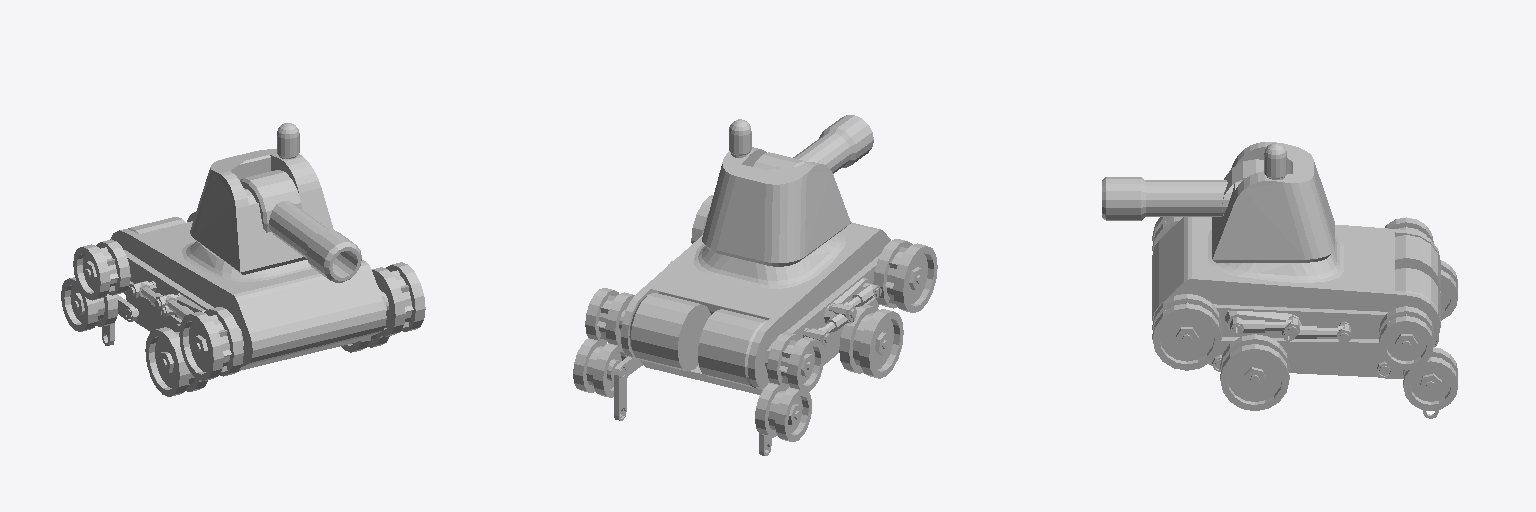
File: turret.obj
The picture shows the model from 3 angles: view 1: azimuth 30°, elevation 25°; view 2: azimuth 150°, elevation 25°; view 3: azimuth 270°, elevation 25°; orthographic projection.
Visible parts, largest first — view 1: Chassis, Turret, Barrel, RightFrontDriver, RightRearDriver, LeftFrontDriver, RightFrontIdler, RightRearIdler, RightDriveBelt, RightRearSuspensionArm; view 2: Chassis, Turret, LeftMotor, RightFrontDriver, RightFrontIdler, RightMotor, Barrel, RightRearIdler, RightRearDriver, LeftRearIdler, LeftRearDriver, RightDriveBelt (+3 smaller); view 3: Chassis, Turret, Barrel, LeftFrontIdler, LeftFrontDriver, LeftRearDriver, LeftRearIdler, LeftDriveBelt, RightMotor, LeftMotor, RightRearIdler, LeftFrontSuspensionSpring (+2 smaller).
Boxes of the visible parts, x1,y1,x2,y2 form: Chassis: [110, 221, 386, 370]; Turret: [190, 149, 333, 274]; Barrel: [240, 170, 361, 282]; RightFrontDriver: [179, 307, 243, 380]; RightRearDriver: [73, 239, 130, 300]; LeftFrontDriver: [372, 262, 425, 336]; RightFrontIdler: [145, 324, 207, 396]; RightRearIdler: [61, 277, 117, 331]; RightDriveBelt: [124, 250, 243, 348]; RightRearSuspensionArm: [102, 294, 137, 345]; Chassis: [621, 222, 890, 394]; Turret: [702, 147, 850, 266]; LeftMotor: [629, 293, 710, 371]; RightFrontDriver: [873, 239, 937, 312]; RightFrontIdler: [839, 304, 903, 378]; RightMotor: [698, 309, 767, 387]; Barrel: [753, 115, 873, 173]; RightRearIdler: [755, 383, 811, 441]; RightRearDriver: [767, 332, 824, 391]; LeftRearIdler: [573, 338, 627, 397]; LeftRearDriver: [585, 288, 634, 345]; RightDriveBelt: [765, 254, 880, 368]; Chassis: [1152, 217, 1440, 377]; Turret: [1212, 142, 1334, 262]; Barrel: [1102, 159, 1263, 220]; LeftFrontIdler: [1220, 334, 1289, 410]; LeftFrontDriver: [1152, 294, 1221, 370]; LeftRearDriver: [1379, 306, 1433, 370]; LeftRearIdler: [1403, 347, 1457, 410]; LeftDriveBelt: [1213, 304, 1387, 344]; RightMotor: [1395, 235, 1440, 292]; LeftMotor: [1395, 268, 1440, 321]; RightRearIdler: [1440, 260, 1457, 320]; LeftFrontSuspensionSpring: [1230, 317, 1299, 334].
Bounding box in the file's own units: 2.12 × 2.42 × 3.09.